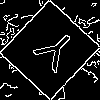Y: (25, 25, 81, 80)
